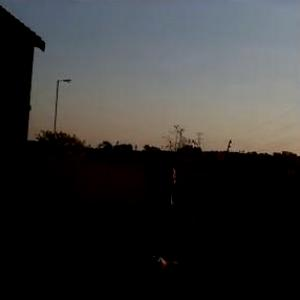follow: (113, 153, 200, 299)
